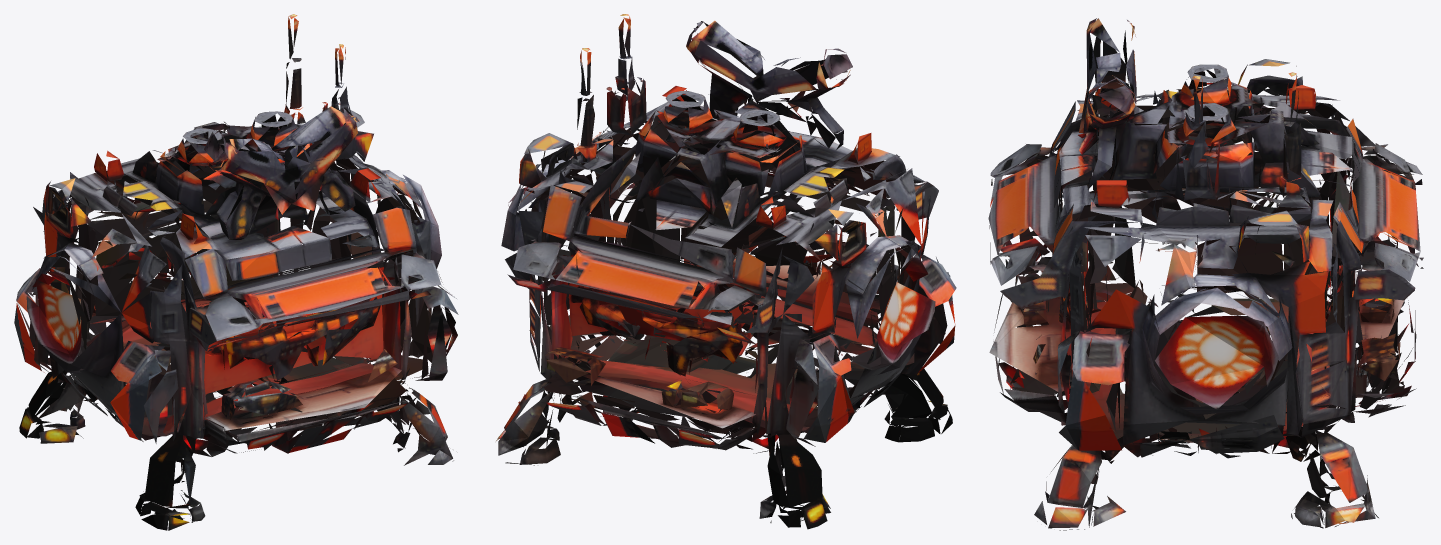
Rendered from defShipArmory_lo.glb.
The picture shows the model from 3 angles, left to right: view 1: azimuth 30°, elevation 25°; view 2: azimuth 150°, elevation 25°; view 3: azimuth 270°, elevation 25°; orthographic projection. The views are drawn at different scales.
Visible parts, largest first — view 1: geometry_0; view 2: geometry_0; view 3: geometry_0.
Part boxes in pixels (bbox=[...]): geometry_0: bbox=[14, 14, 458, 530]; geometry_0: bbox=[496, 14, 956, 529]; geometry_0: bbox=[988, 18, 1423, 530].
Size of the model in its own units: 1 by 1 by 0.9373.
Materials: 1 (1 with a texture image).
